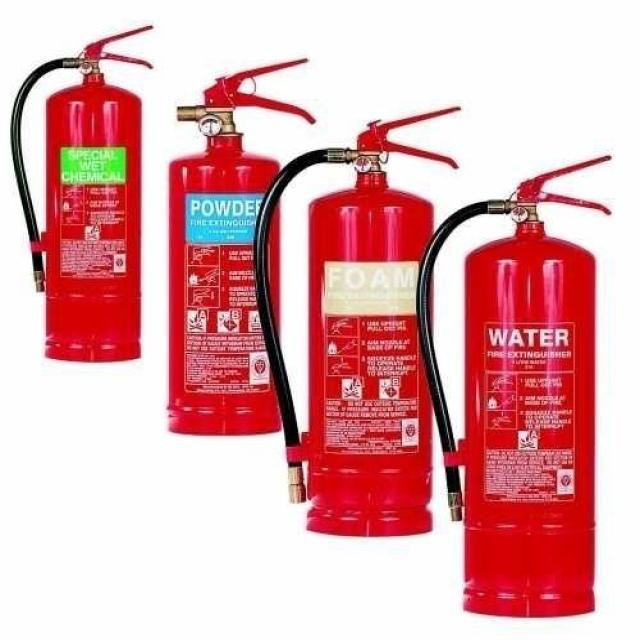fire_extinguisher: (409, 151, 616, 624), (248, 101, 464, 541), (159, 54, 317, 440), (3, 21, 156, 364)
